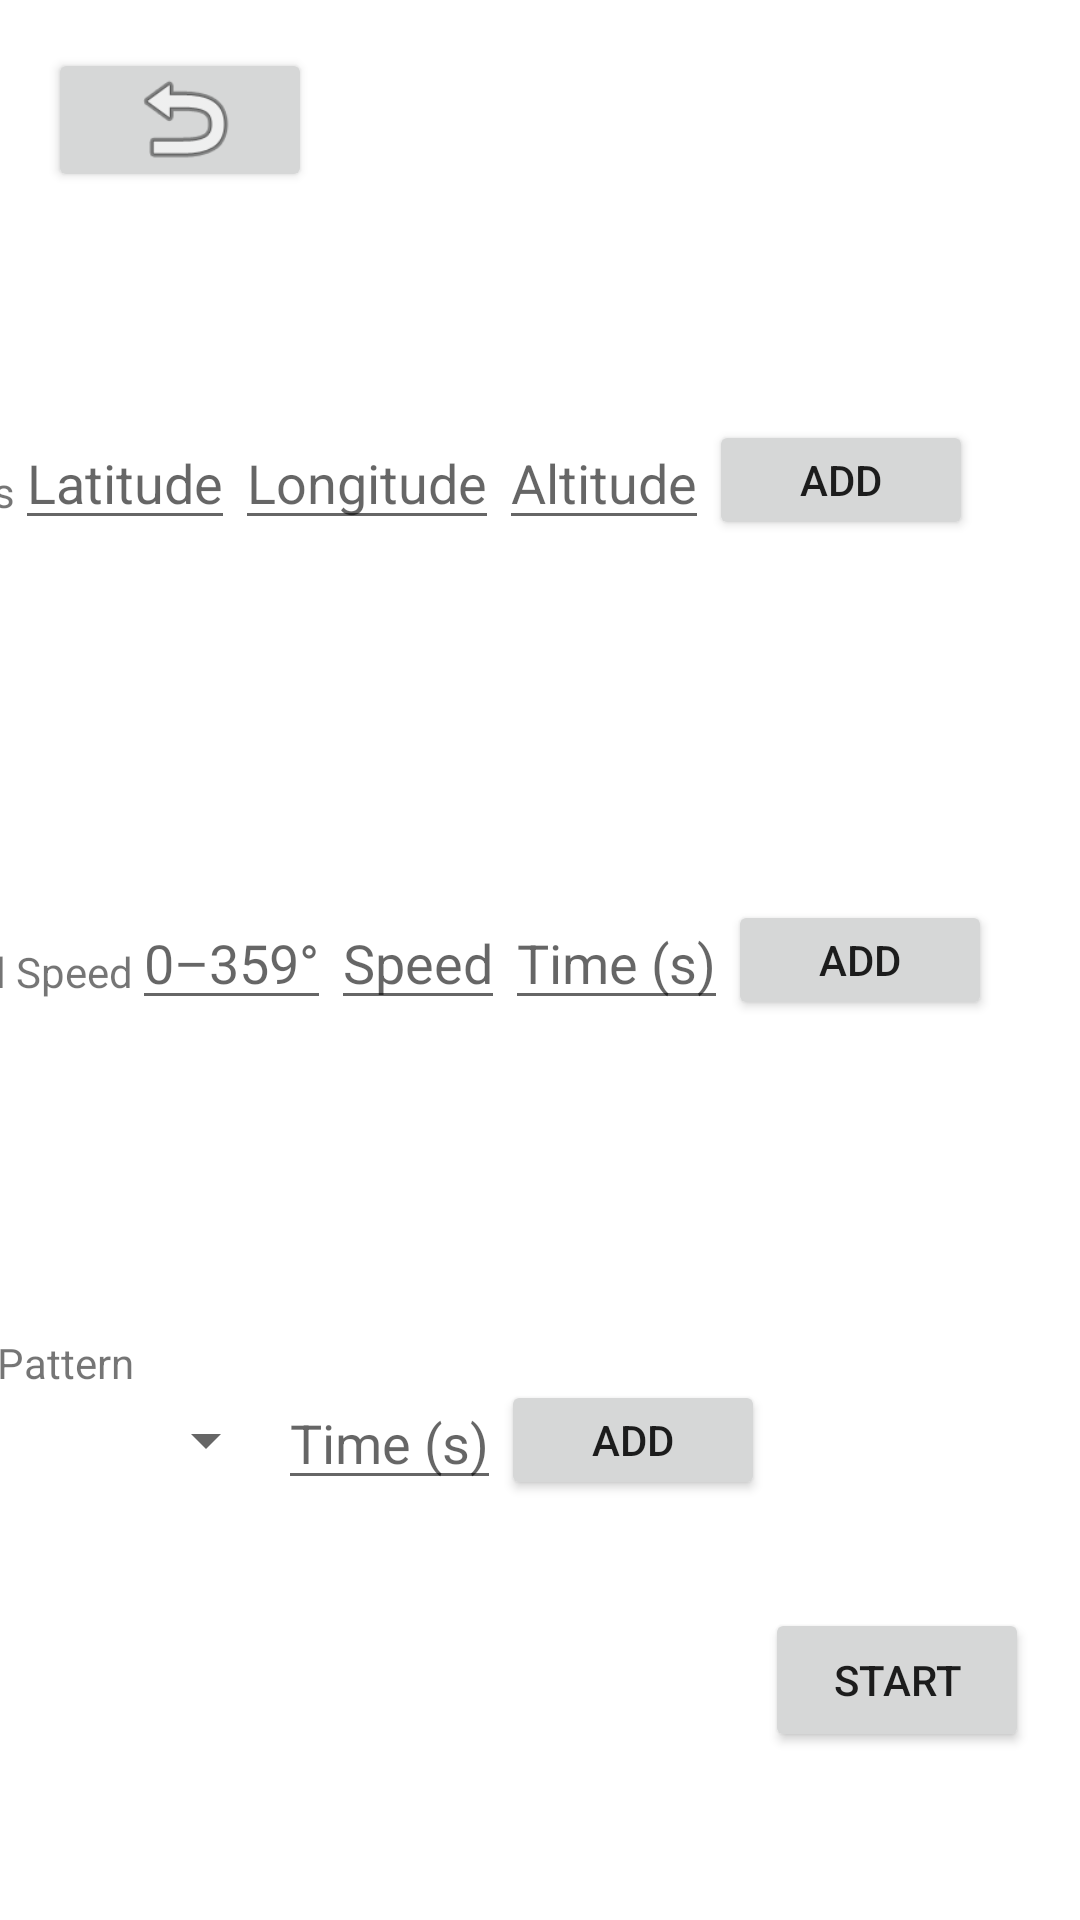

Locate icon controls on the screen. Image size 1080×1920, boxes as (x1, y1, x2, y2).
revert: (60, 66, 300, 174)
